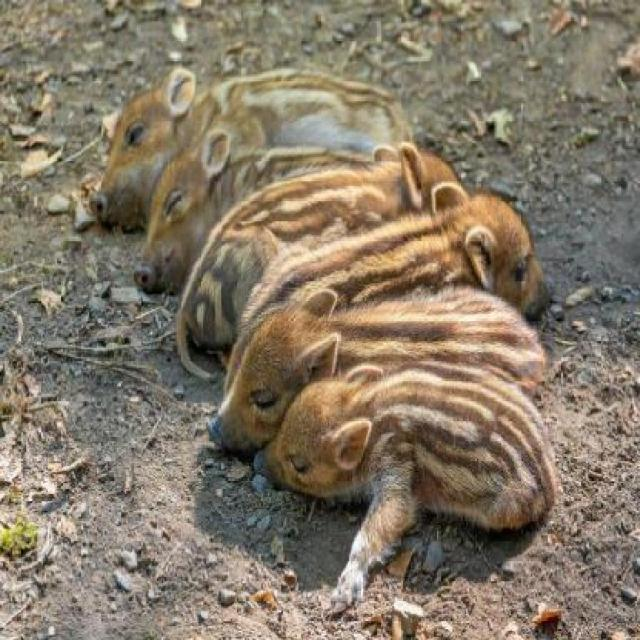wildboar: (249, 361, 556, 617), (172, 141, 478, 384), (217, 181, 555, 394), (206, 288, 552, 480), (132, 115, 473, 298), (88, 62, 420, 235)
